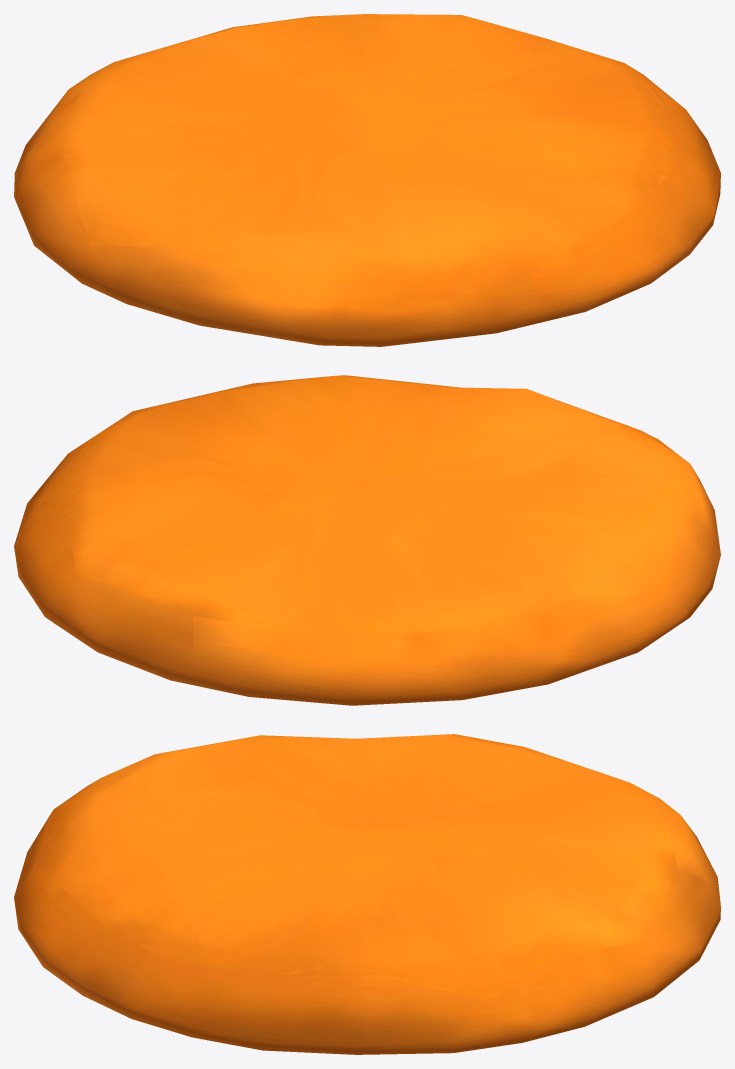
3 views of the same model, one above another, from view 1: azimuth 30°, elevation 25°; view 2: azimuth 150°, elevation 25°; view 3: azimuth 270°, elevation 25° (orthographic).
Visible parts, largest first — view 1: dark; view 2: dark; view 3: dark.
Part boxes in pixels (x1,y1,x2,y2): dark: [14, 14, 720, 346]; dark: [14, 375, 720, 705]; dark: [14, 734, 720, 1054].
Bounding box in the file's own units: 1.25 × 0.1602 × 1.25.
Materials: 1 (1 with a texture image).
